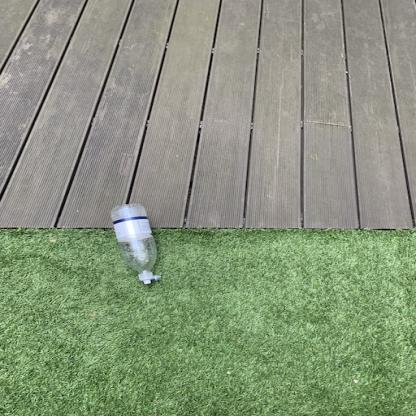trash: (110, 203, 162, 287)
